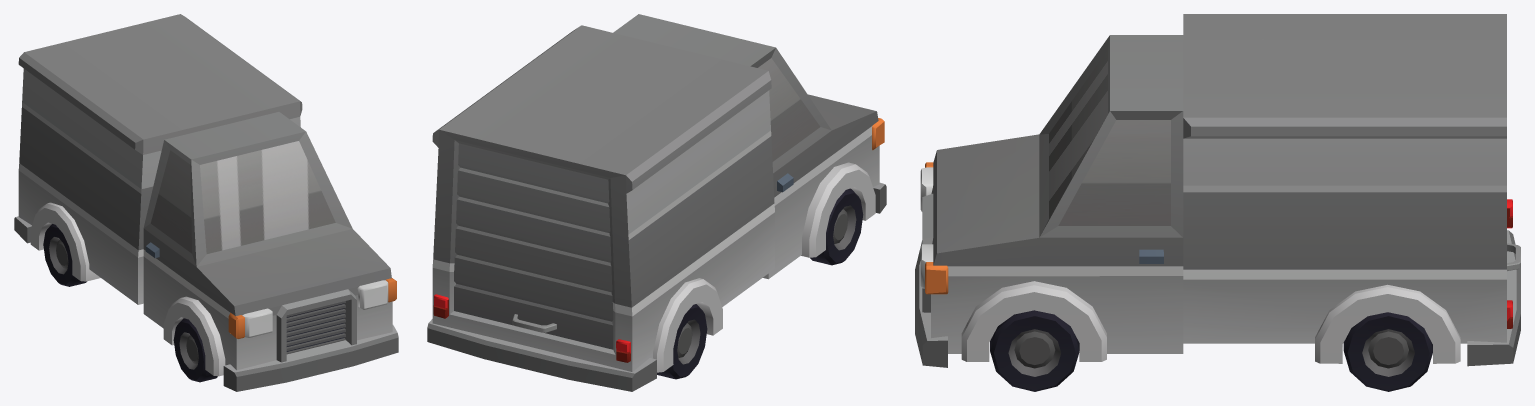
File: PostCar_11.glb
3 renders of one model, left to right at view 1: azimuth 30°, elevation 25°; view 2: azimuth 150°, elevation 25°; view 3: azimuth 270°, elevation 25°, orthographic. The views are drawn at different scales.
Visible parts, largest first — view 1: PostCar_11, Wheel_FR, Wheel_BR; view 2: PostCar_11, Wheel_FR, Wheel_BR; view 3: PostCar_11, Wheel_FL, Wheel_BL.
Boxes of the visible parts, bbox=[...] form: PostCar_11: bbox=[14, 14, 398, 391]; Wheel_FR: bbox=[173, 318, 217, 382]; Wheel_BR: bbox=[43, 224, 86, 286]; PostCar_11: bbox=[427, 14, 886, 391]; Wheel_FR: bbox=[810, 188, 863, 265]; Wheel_BR: bbox=[657, 304, 707, 379]; PostCar_11: bbox=[915, 14, 1520, 367]; Wheel_FL: bbox=[990, 310, 1079, 391]; Wheel_BL: bbox=[1343, 312, 1432, 391].
Bounding box in the file's own units: 1.18 × 1.24 × 2.51.
Materials: 5 (5 with a texture image).
